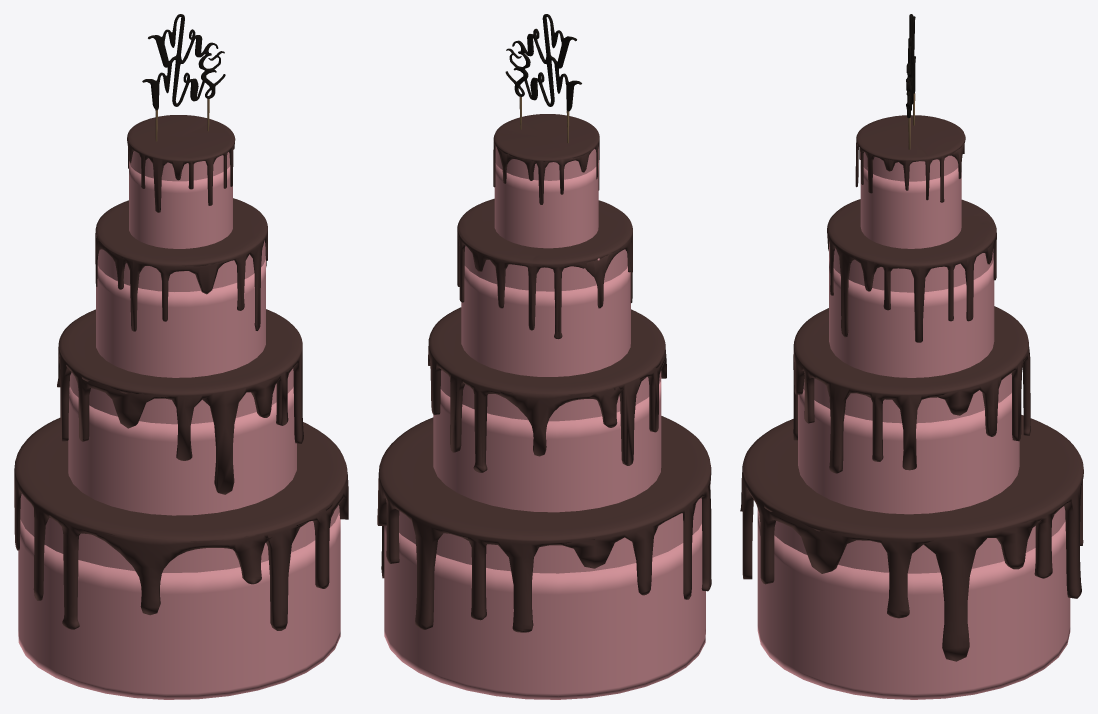
File: 4-tier-blush-ganache-mrms.glb
3 views of the same model, side by side, from view 1: azimuth 30°, elevation 25°; view 2: azimuth 150°, elevation 25°; view 3: azimuth 270°, elevation 25° (orthographic).
Visible parts, largest first — view 1: 3.001, tHE ICING.008, 3, 2, tHE ICING.007, tHE ICING.006, 1, tHE ICING.009, mrms.002; view 2: 3.001, tHE ICING.008, 3, 2, tHE ICING.007, tHE ICING.006, 1, tHE ICING.009, mrms.002; view 3: 3.001, tHE ICING.008, 3, 2, tHE ICING.007, tHE ICING.006, 1, tHE ICING.009, mrms.002.
Boxes of the visible parts, x1,y1,x2,y2 form: 3.001: (18,494,340,699); tHE ICING.008: (14,418,348,630); 3: (68,368,296,515); 2: (96,235,265,377); tHE ICING.007: (57,309,303,494); tHE ICING.006: (95,198,267,331); 1: (129,151,232,248); tHE ICING.009: (127,115,235,212); mrms.002: (142,14,225,141); 3.001: (384,497,705,699); tHE ICING.008: (377,416,711,632); 3: (433,370,661,512); 2: (461,245,630,376); tHE ICING.007: (428,307,666,472); tHE ICING.006: (457,198,632,339); 1: (494,146,598,248); tHE ICING.009: (493,114,599,204); mrms.002: (505,14,581,142); 3.001: (757,506,1070,699); tHE ICING.008: (740,415,1083,661); 3: (798,373,1019,514); 2: (829,242,994,377); tHE ICING.007: (793,306,1030,473); tHE ICING.006: (827,199,996,342); 1: (860,152,961,248); tHE ICING.009: (855,115,965,202); mrms.002: (906,14,915,149).
Bounding box in the file's own units: 4.52 × 9.28 × 4.69.
